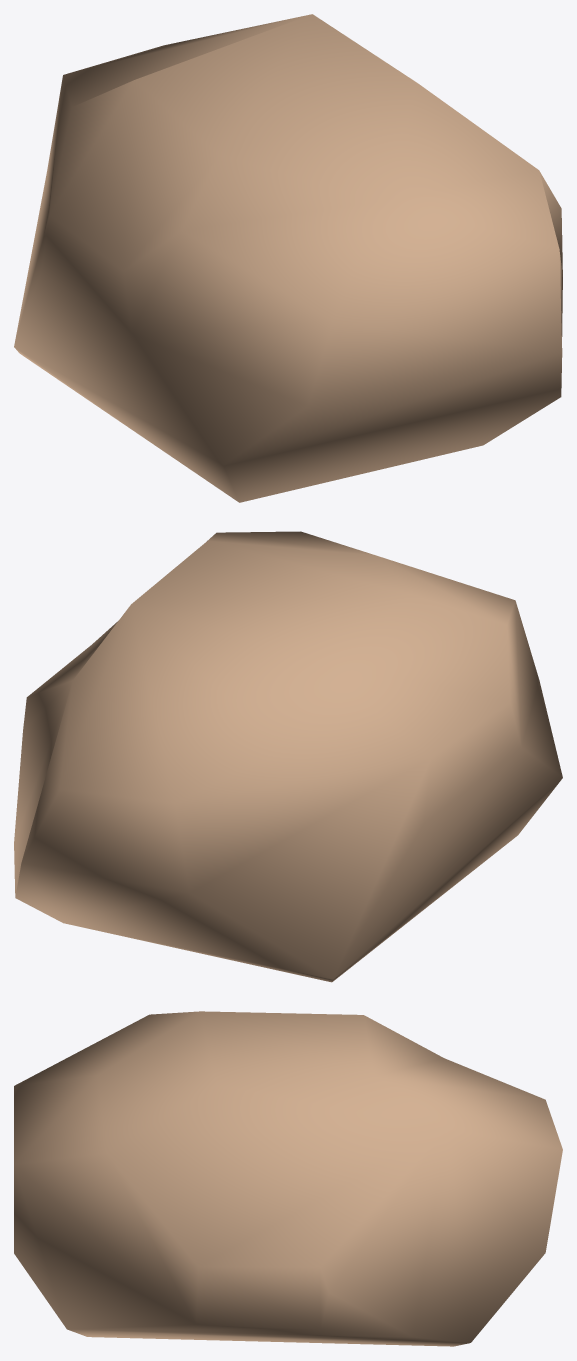
The model's file is Rock2.fbx.
3 renders of one model, top to bottom at view 1: azimuth 30°, elevation 25°; view 2: azimuth 150°, elevation 25°; view 3: azimuth 270°, elevation 25°, orthographic. The views are drawn at different scales.
Visible parts, largest first — view 1: Rock2; view 2: Rock2; view 3: Rock2.
Boxes of the visible parts, box(x1,y1,x2,y2) form: Rock2: box(14, 14, 562, 502); Rock2: box(14, 531, 562, 982); Rock2: box(14, 1011, 562, 1346).
Bounding box in the file's own units: 80.66 × 53.7 × 103.
